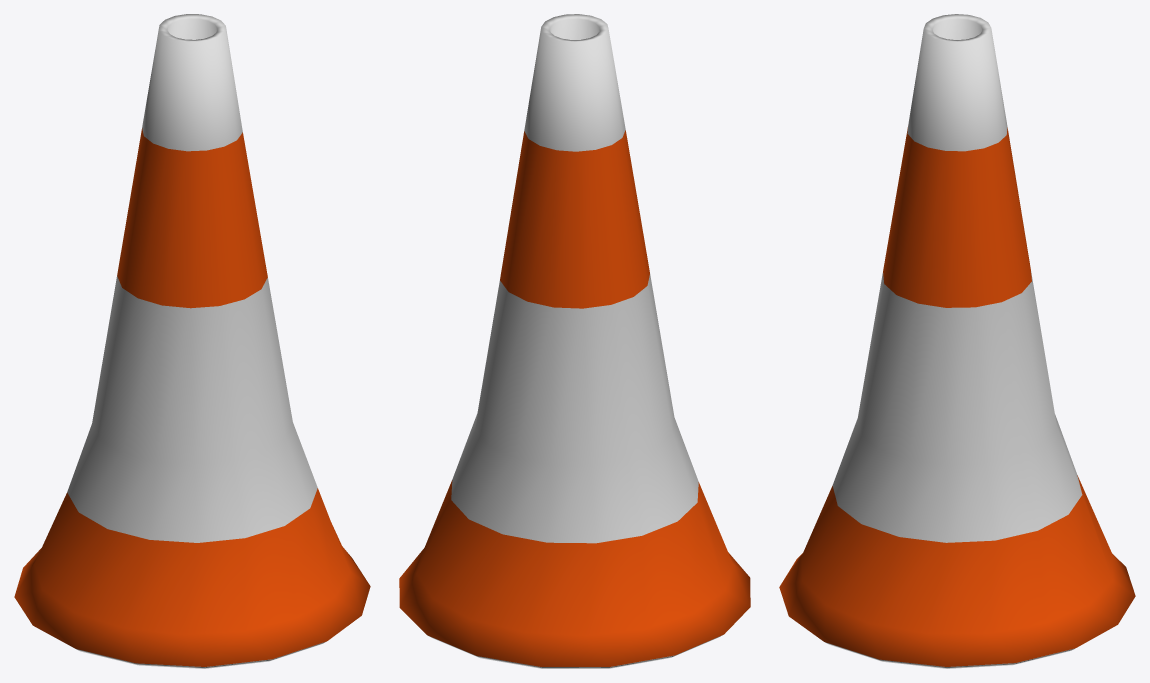
The model's file is cone_texture.fbx.
The picture shows the model from 3 angles, left to right: view 1: azimuth 30°, elevation 25°; view 2: azimuth 150°, elevation 25°; view 3: azimuth 270°, elevation 25°; orthographic projection.
Visible parts, largest first — view 1: Cube; view 2: Cube; view 3: Cube.
Boxes of the visible parts, x1,y1,x2,y2 form: Cube: (14, 14, 370, 668); Cube: (399, 14, 750, 668); Cube: (779, 14, 1135, 668).
Bounding box in the file's own units: 197 × 347 × 197.
